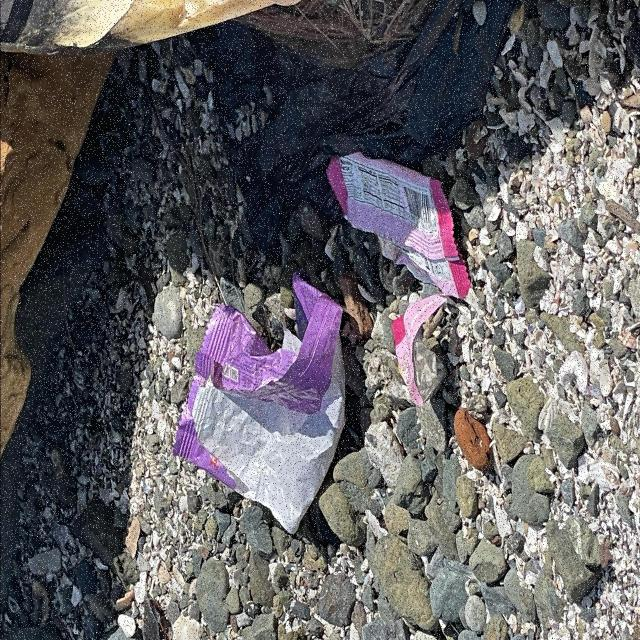plastic_waste: (170, 270, 345, 533), (328, 152, 476, 410)
